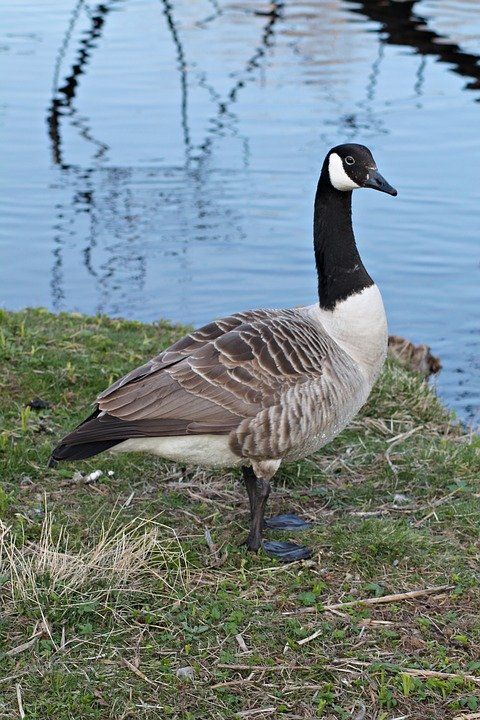goose: (41, 141, 401, 564)
